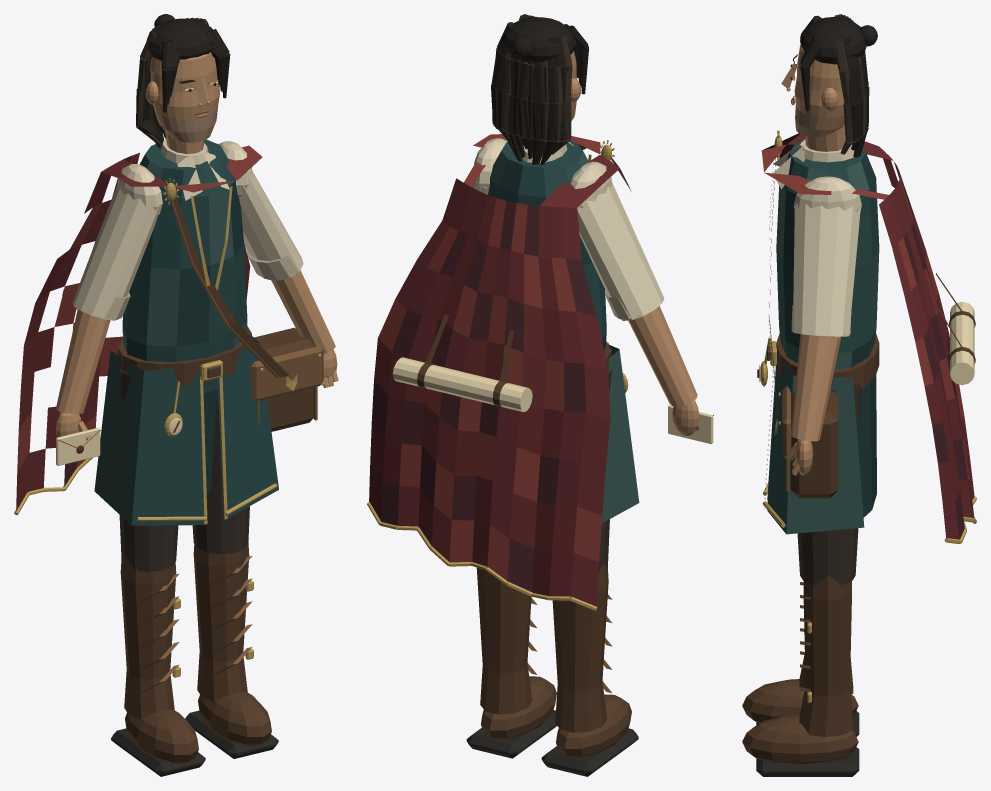
File: human-courier.glb
The picture shows the model from 3 angles, left to right: view 1: azimuth 30°, elevation 25°; view 2: azimuth 150°, elevation 25°; view 3: azimuth 270°, elevation 25°; orthographic projection. The views are drawn at different scales.
Parts seen in each view (by area): view 1: Waistcoat, Split_coat_R, Cloak_folds, Boot_shaft_R, Boot_shaft_L, Split_coat_L, Linen_sleeve_R, Face, Forearm_R, Linen_sleeve_L, Trouser_thigh_L, Boot_toe_R (+15 smaller); view 2: Cloak_folds, Boot_shaft_R, Boot_shaft_L, Linen_sleeve_R, Waistcoat, Split_coat_R, Map_roll, Forearm_R, Boot_toe_R, Boot_toe_L, Hair_crown, Boot_sole_R (+5 smaller); view 3: Cloak_folds, Waistcoat, Linen_sleeve_L, Split_coat_L, Boot_shaft_L, Forearm_L, Boot_toe_L, Trouser_thigh_L, Messenger_satchel, Face, Back_coat, Boot_toe_R (+9 smaller).
Part boxes in pixels (x1,y1,x2,y2): Waistcoat: (122, 139, 247, 392); Split_coat_R: (94, 351, 205, 525); Cloak_folds: (16, 145, 262, 511); Boot_shaft_R: (120, 555, 176, 719); Boot_shaft_L: (193, 540, 249, 701); Split_coat_L: (217, 336, 278, 520); Linen_sleeve_R: (72, 184, 159, 320); Face: (150, 52, 219, 142); Forearm_R: (55, 309, 110, 413); Linen_sleeve_L: (239, 171, 303, 280); Trouser_thigh_L: (192, 390, 249, 554); Boot_toe_R: (125, 709, 198, 764); Cloak_folds: (369, 134, 631, 606); Boot_shaft_R: (552, 563, 608, 732); Boot_shaft_L: (476, 567, 532, 714); Linen_sleeve_R: (577, 181, 664, 320); Waistcoat: (488, 140, 606, 350); Split_coat_R: (601, 344, 639, 523); Map_roll: (392, 357, 532, 412); Forearm_R: (628, 306, 697, 406); Boot_toe_R: (556, 694, 631, 757); Boot_toe_L: (481, 676, 556, 738); Hair_crown: (502, 17, 576, 62); Boot_sole_R: (541, 728, 638, 776); Cloak_folds: (761, 133, 974, 539); Waistcoat: (776, 139, 879, 370); Linen_sleeve_L: (793, 203, 860, 336); Split_coat_L: (767, 351, 864, 534); Boot_shaft_L: (799, 575, 853, 736); Forearm_L: (791, 334, 840, 441); Boot_toe_L: (742, 715, 858, 764); Trouser_thigh_L: (797, 383, 861, 585); Messenger_satchel: (790, 389, 838, 498); Face: (794, 44, 844, 137); Back_coat: (856, 375, 876, 517); Boot_toe_R: (742, 679, 858, 723).
Size of the model in its own units: 0.7395 by 1.76 by 0.5149.
